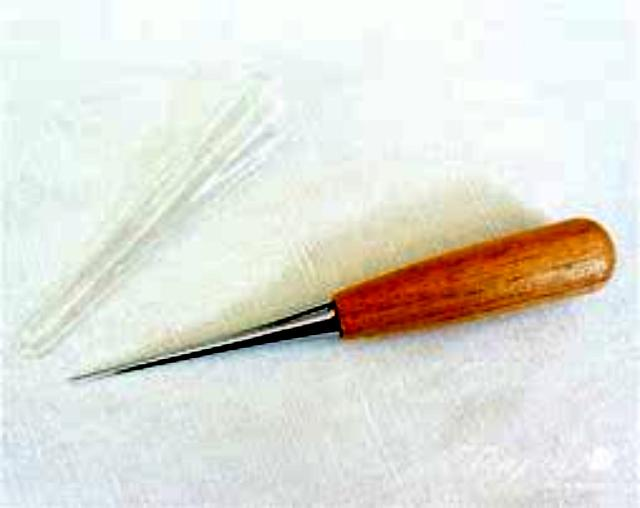ice pick: (71, 214, 617, 380)
